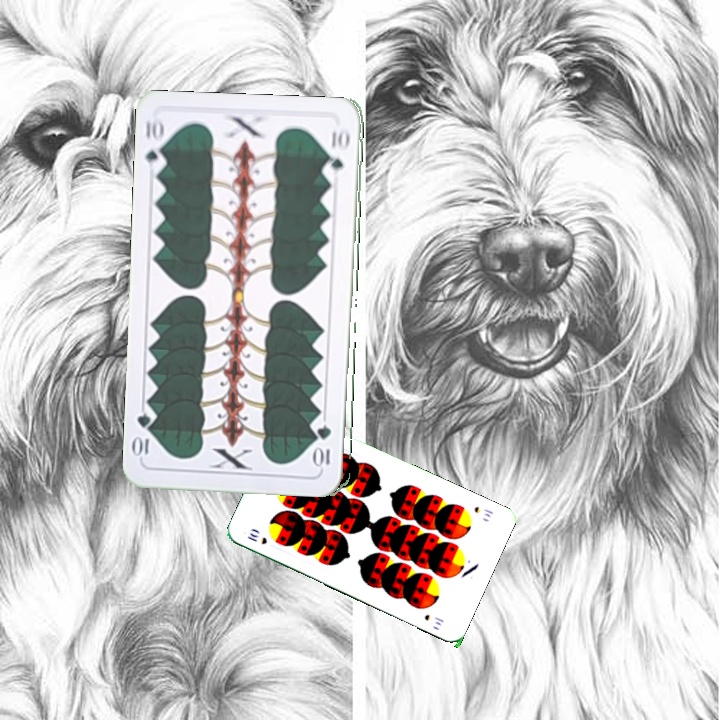G10: (141, 115, 168, 174), (315, 422, 333, 471)
S10: (243, 528, 270, 547), (470, 502, 496, 520)
